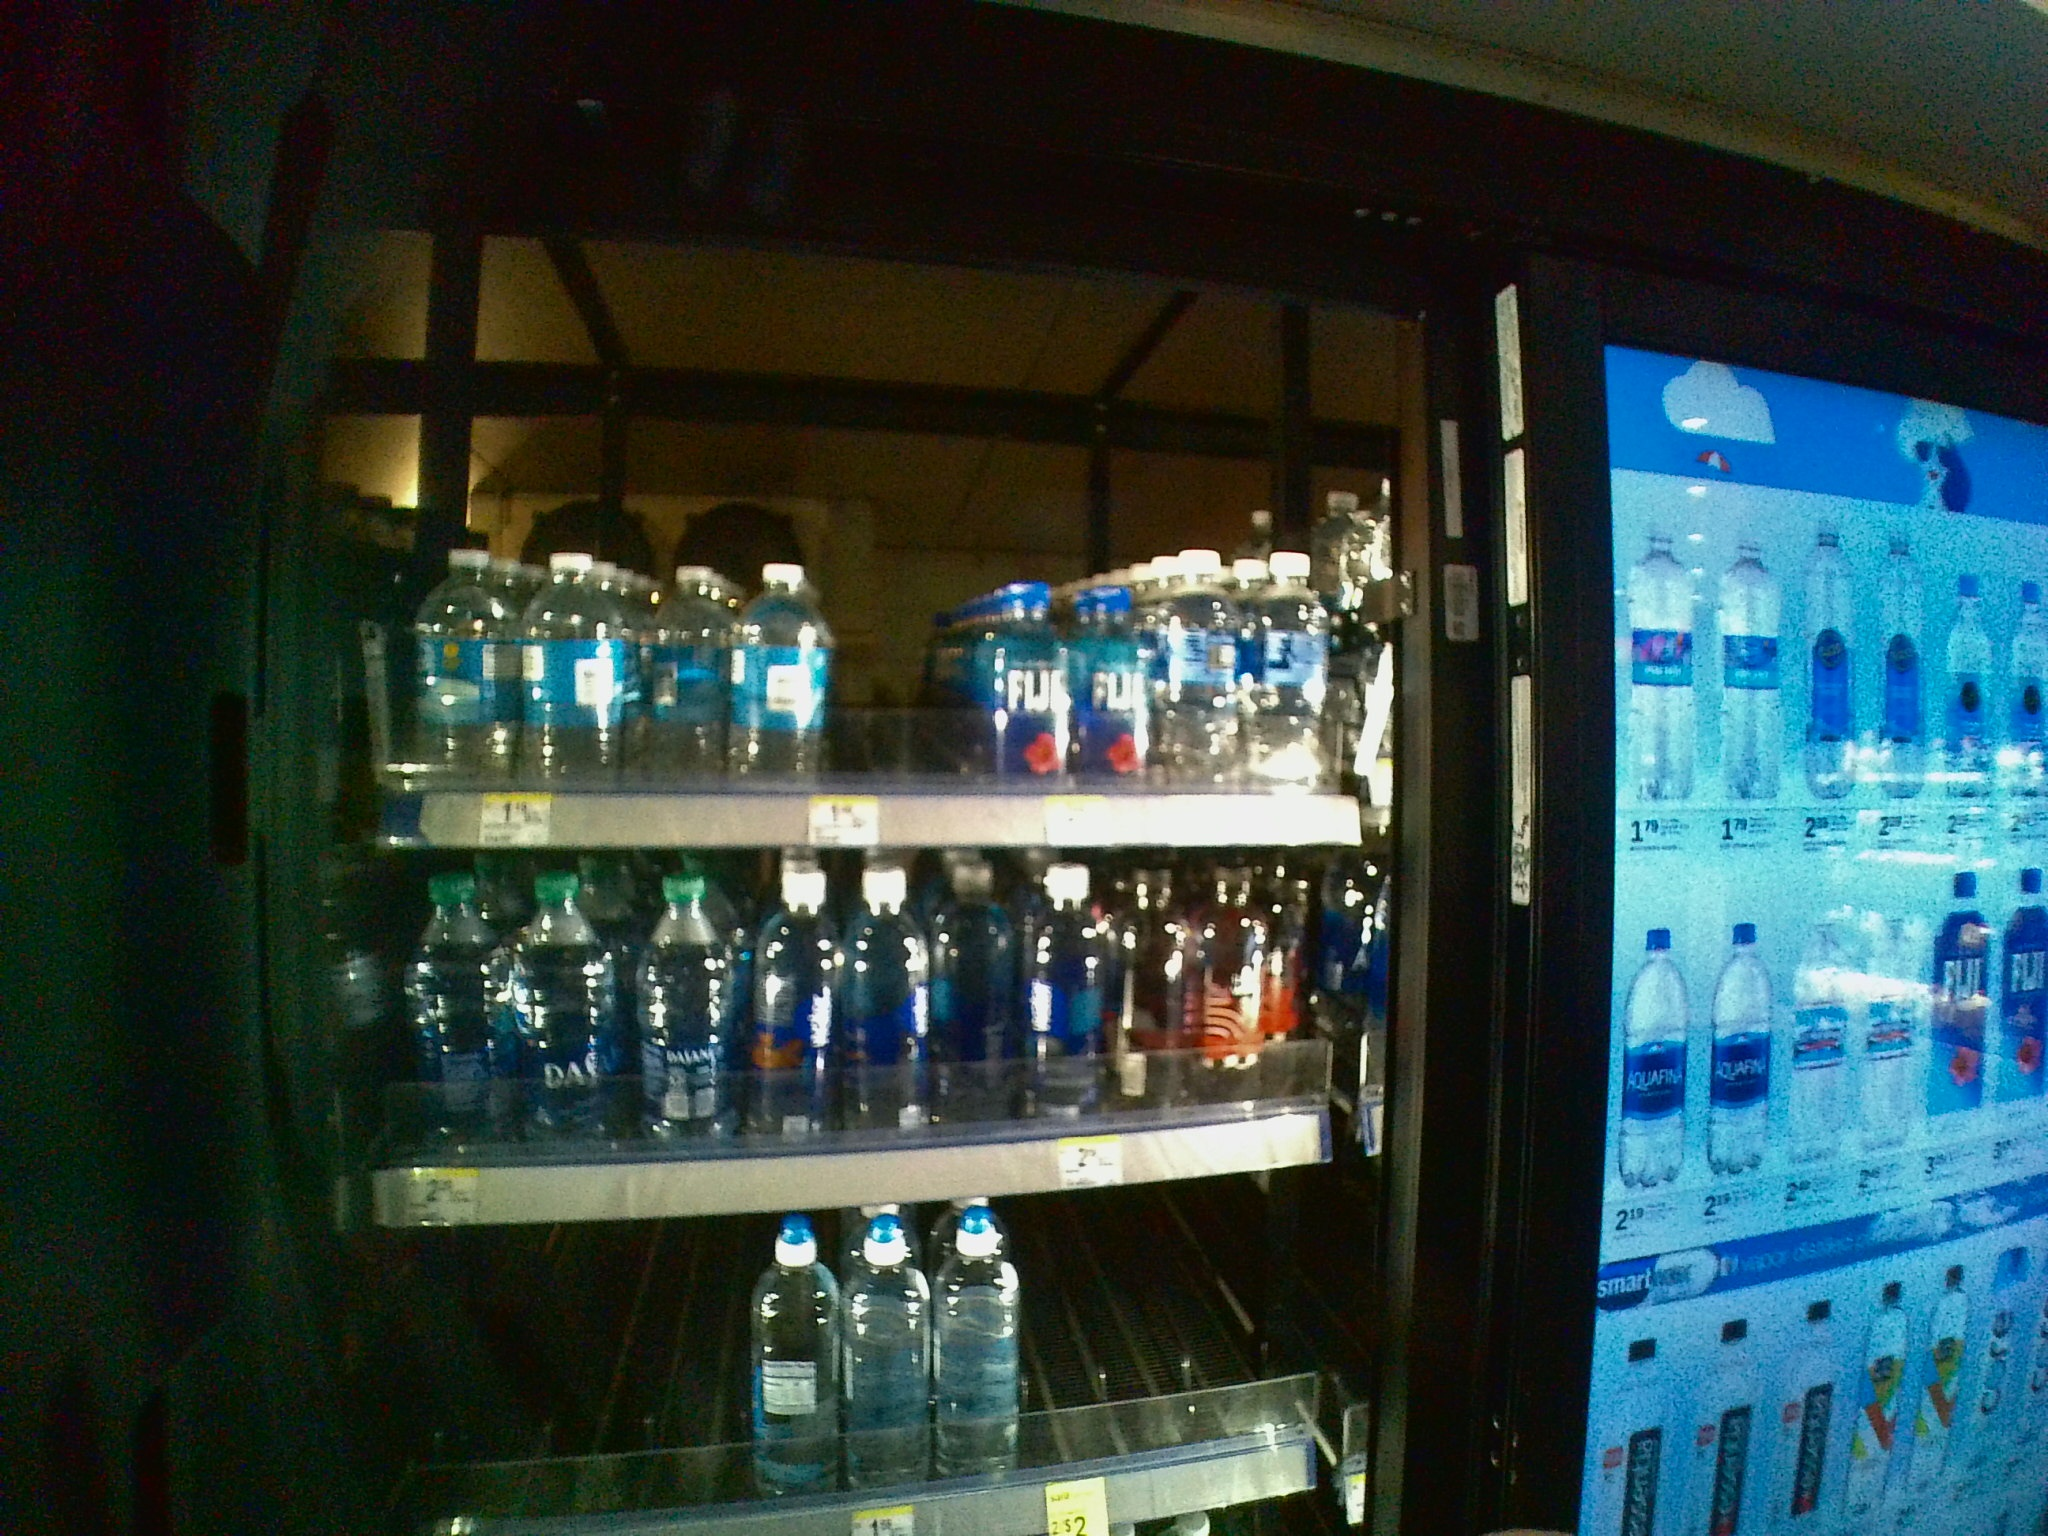shelf: (311, 363, 1390, 854), (311, 850, 1401, 1228)
